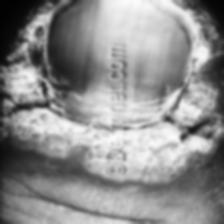Toxin: (129, 64, 224, 168), (0, 71, 104, 143), (7, 4, 54, 66), (187, 0, 217, 60)
